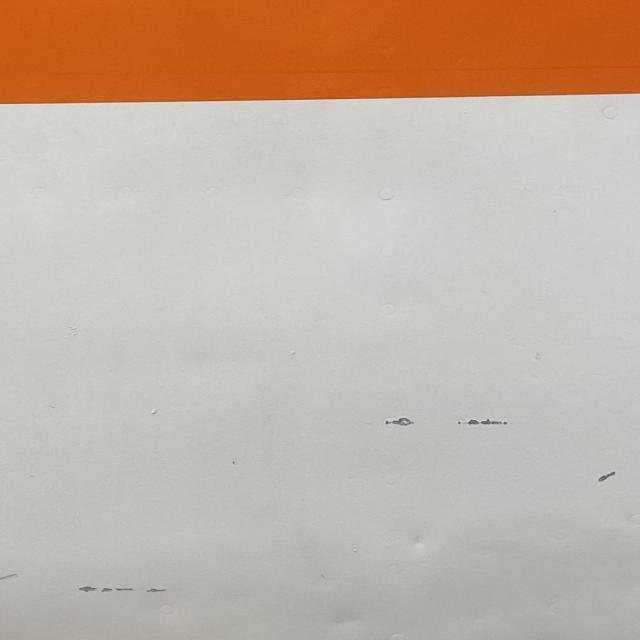Dent: (299, 601, 387, 640), (391, 522, 451, 570)
Paint-off: (75, 585, 135, 595), (458, 419, 509, 427), (595, 470, 617, 484), (383, 418, 413, 427), (143, 587, 167, 595)
Scratch: (0, 574, 15, 583)
